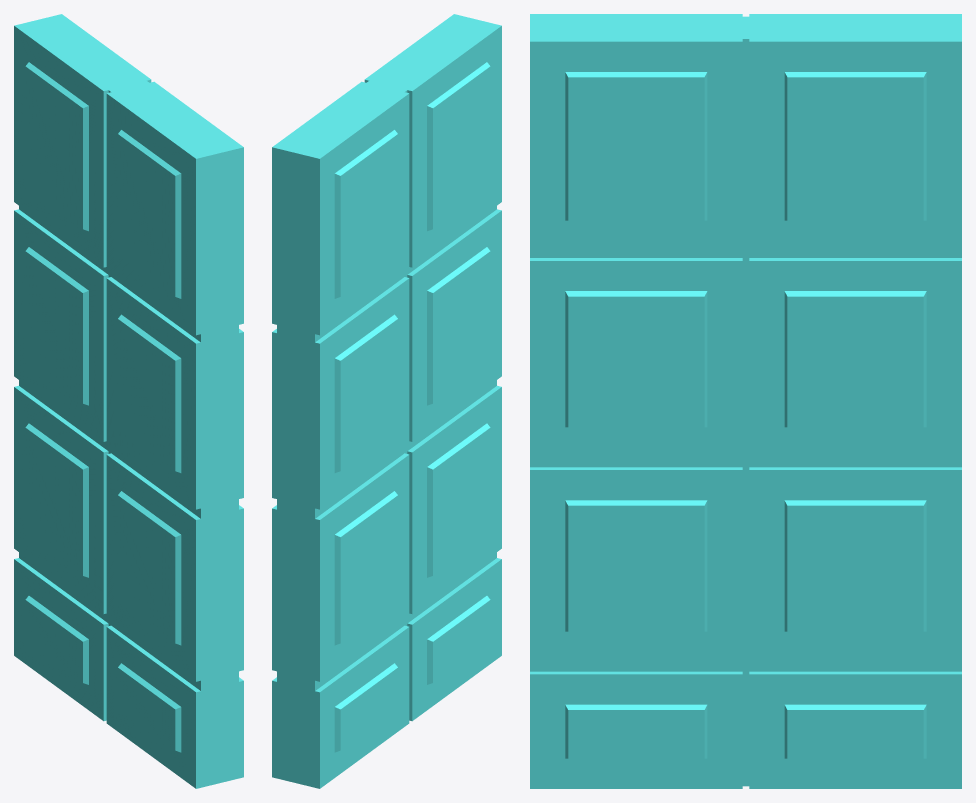
The picture shows the model from 3 angles, left to right: view 1: azimuth 30°, elevation 25°; view 2: azimuth 150°, elevation 25°; view 3: azimuth 270°, elevation 25°; orthographic projection. The views are drawn at different scales.
Parts seen in each view (by area): view 1: core; view 2: core; view 3: core.
Boxes of the visible parts, x1,y1,x2,y2 form: core: [14, 14, 243, 788]; core: [272, 14, 501, 788]; core: [530, 14, 961, 788].
Size of the model in its own units: 0.0142 by 0.15 by 0.0786.
